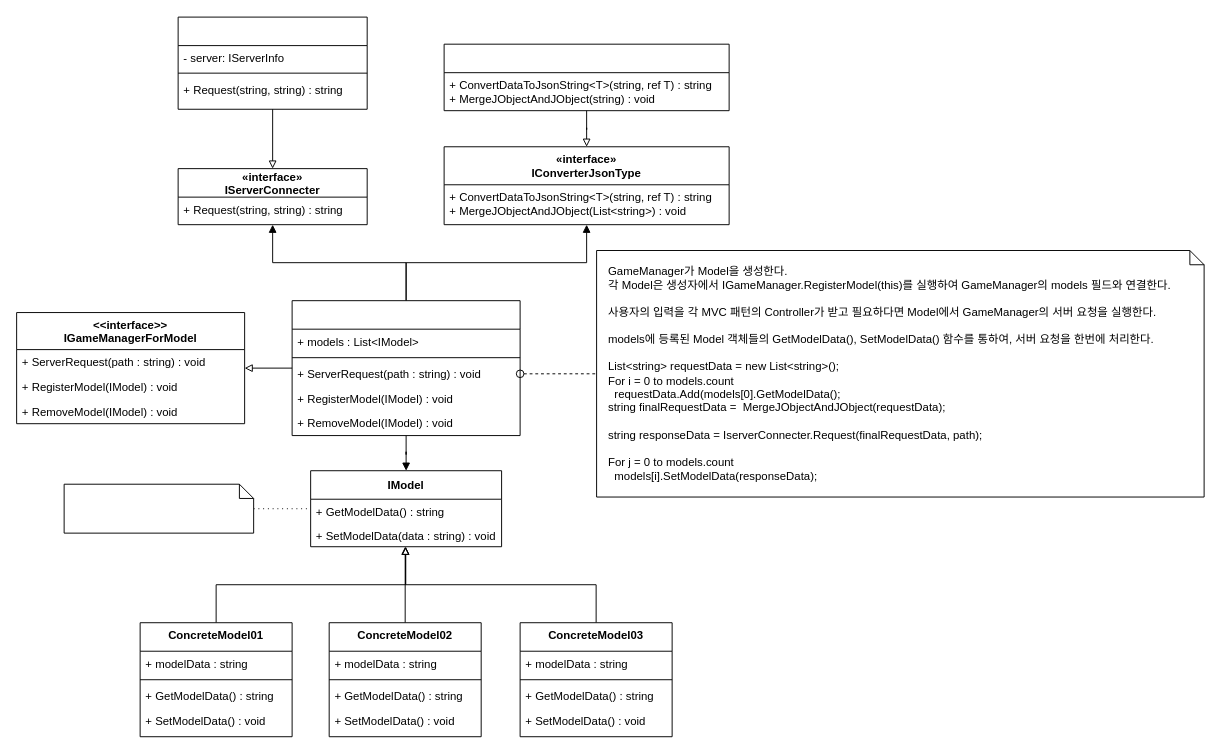
Some shapes in this 1221 by 755 pixel diagram are drawn without their labels. Each missing label, with the box of its shape:
ConverterJsonType: (443, 43, 729, 111)
GameManager: (291, 300, 520, 436)
ServerConnecter: (177, 16, 367, 109)
각 Model들은 생성 시에, RegisterModel(this)를 수행.: (63, 483, 254, 533)
